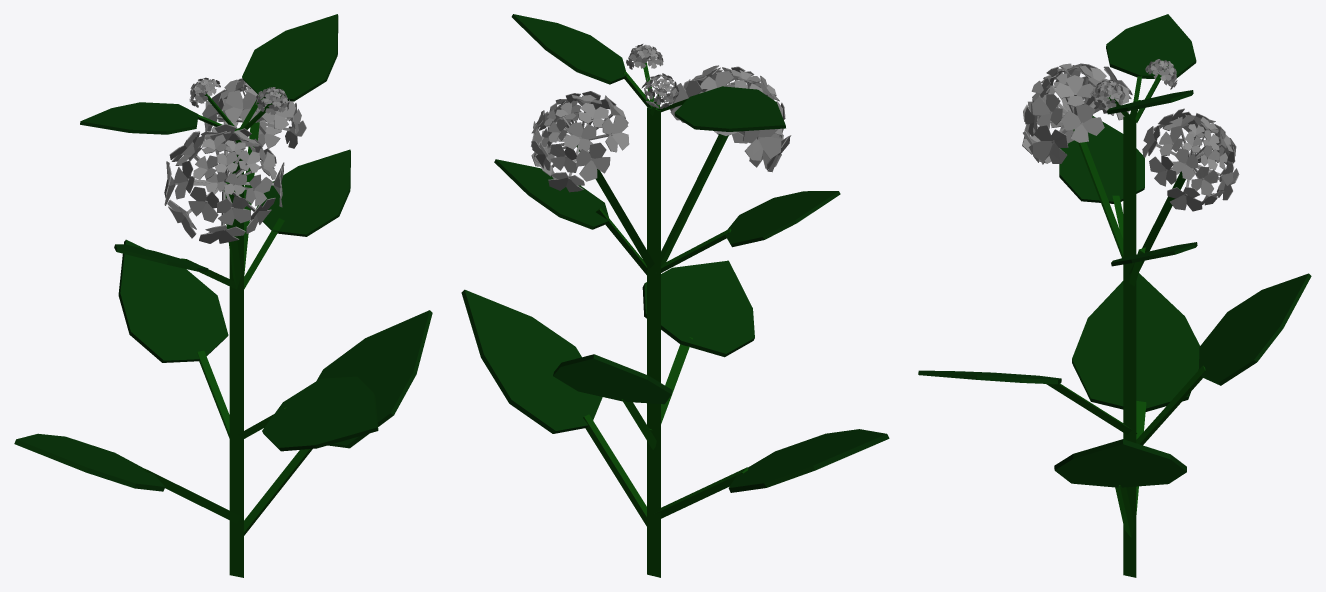
Rendered from Lantana.obj.
The picture shows the model from 3 angles, left to right: view 1: azimuth 30°, elevation 25°; view 2: azimuth 150°, elevation 25°; view 3: azimuth 270°, elevation 25°; orthographic projection. The views are drawn at different scales.
Visible parts, largest first — view 1: Lantana; view 2: Lantana; view 3: Lantana.
Boxes of the visible parts, box(x1,y1,x2,y2) form: Lantana: box(14, 14, 432, 577); Lantana: box(461, 14, 889, 577); Lantana: box(918, 14, 1311, 577).
Bounding box in the file's own units: 0.5 × 0.6 × 0.4.
